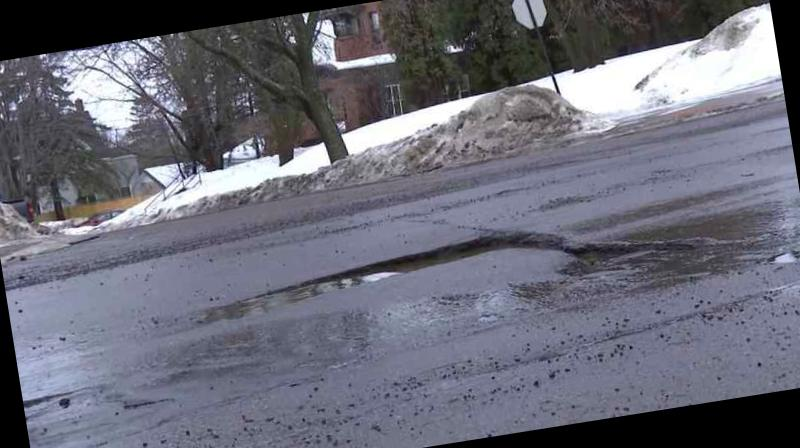pothole: (178, 212, 552, 329), (551, 217, 670, 293), (19, 366, 101, 446), (124, 377, 183, 430), (744, 239, 800, 292)
